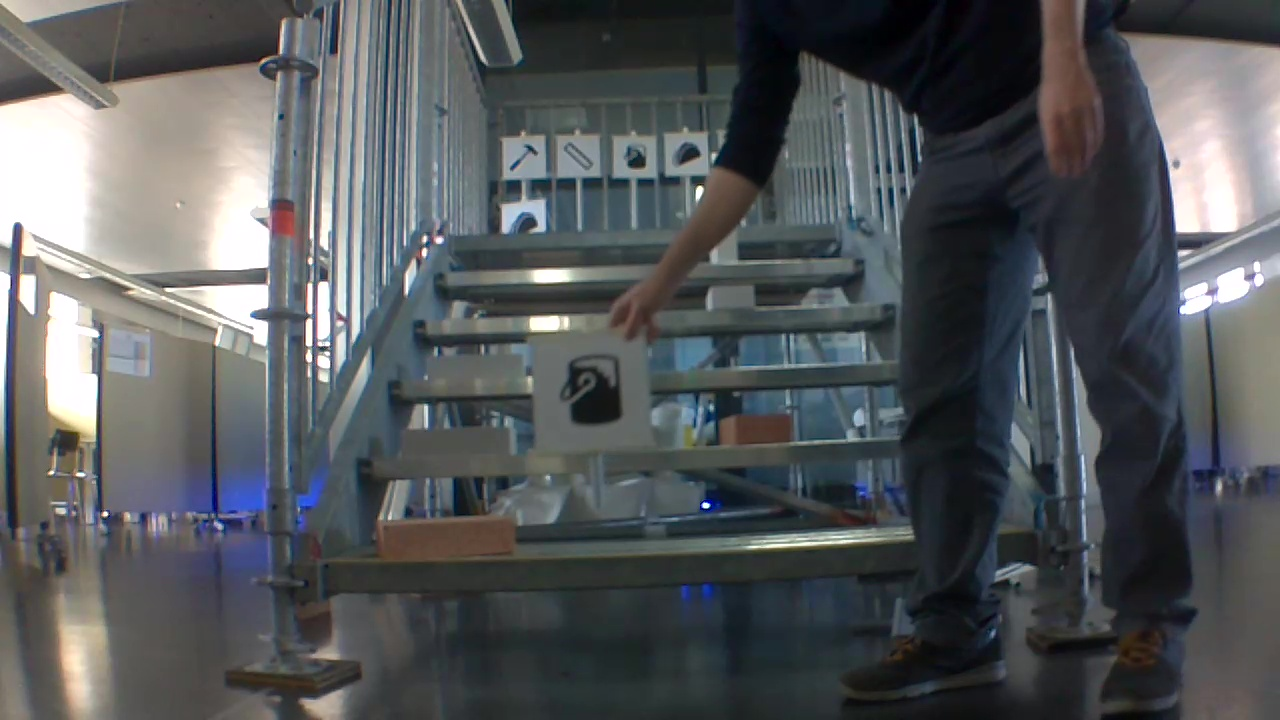brick: (376, 516, 510, 558), (404, 428, 513, 460), (718, 413, 793, 446), (427, 354, 523, 379), (706, 285, 753, 309)
bucket: (544, 346, 623, 430), (619, 143, 648, 170)
edge: (322, 528, 1043, 591)
hammer: (503, 140, 540, 174)
ruler: (559, 138, 597, 173)
taco: (670, 138, 705, 169), (502, 208, 540, 232)
